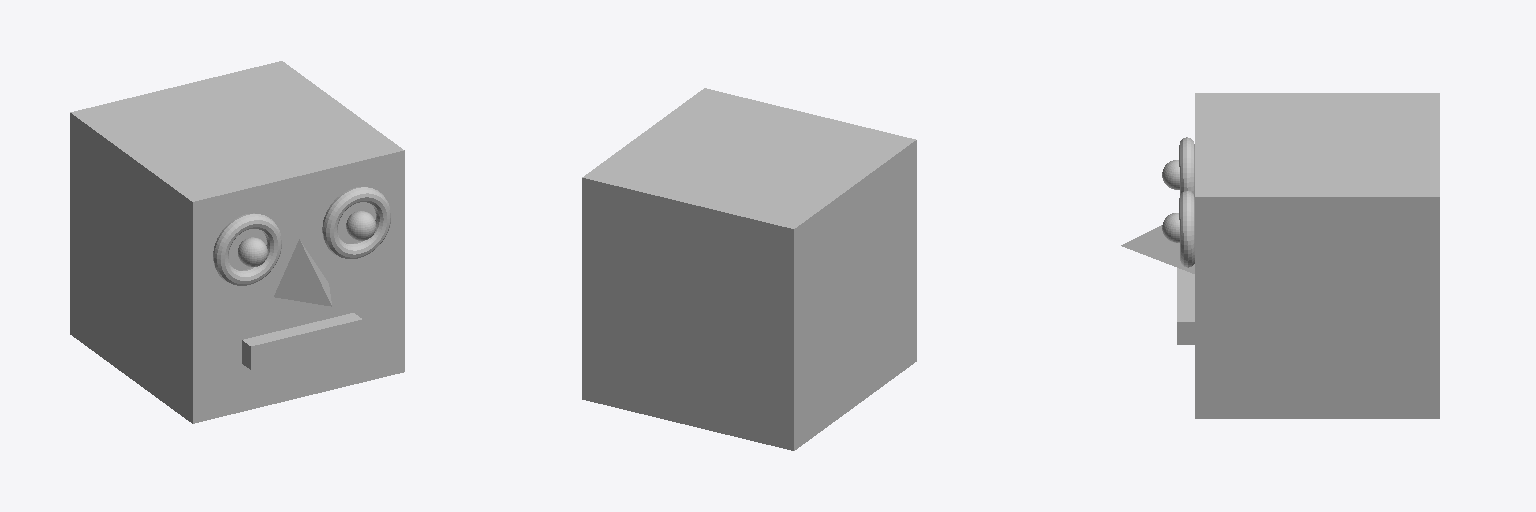
Rendered from fullface.obj.
3 renders of one model, left to right at view 1: azimuth 30°, elevation 25°; view 2: azimuth 150°, elevation 25°; view 3: azimuth 270°, elevation 25°, orthographic.
Visible parts, largest first — view 1: Mouth_Cube.004; view 2: Mouth_Cube.004; view 3: Mouth_Cube.004.
Boxes of the visible parts, x1,y1,x2,y2 form: Mouth_Cube.004: [70, 61, 404, 423]; Mouth_Cube.004: [582, 88, 916, 450]; Mouth_Cube.004: [1121, 93, 1439, 418].
Bounding box in the file's own units: 2 × 2 × 2.61.